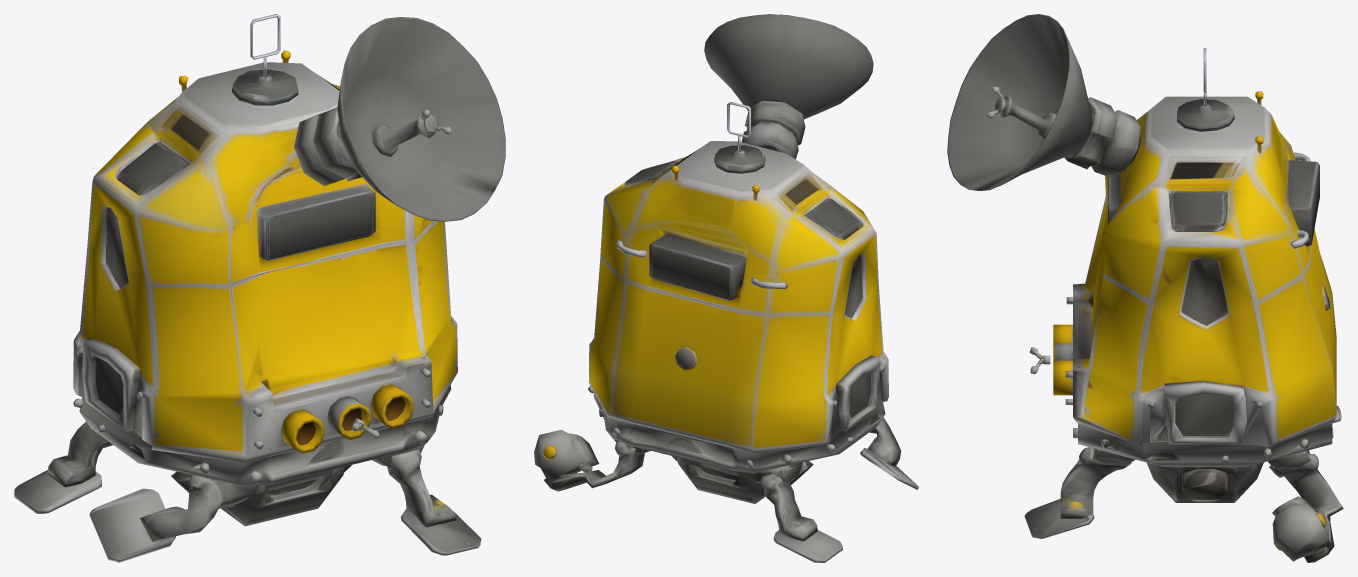
The model's file is ethio-deep-space-probe.glb.
3 renders of one model, left to right at view 1: azimuth 30°, elevation 25°; view 2: azimuth 150°, elevation 25°; view 3: azimuth 270°, elevation 25°, orthographic. The views are drawn at different scales.
Parts seen in each view (by area): view 1: tripo_node_6704efd2-a175-4c45-8b89-2cac6a248c53; view 2: tripo_node_6704efd2-a175-4c45-8b89-2cac6a248c53; view 3: tripo_node_6704efd2-a175-4c45-8b89-2cac6a248c53.
Boxes of the visible parts, x1,y1,x2,y2 form: tripo_node_6704efd2-a175-4c45-8b89-2cac6a248c53: (14, 14, 505, 562); tripo_node_6704efd2-a175-4c45-8b89-2cac6a248c53: (534, 14, 918, 562); tripo_node_6704efd2-a175-4c45-8b89-2cac6a248c53: (947, 14, 1343, 562).
Bounding box in the file's own units: 0.7715 × 0.998 × 0.752.
1 material, 1 textured.
